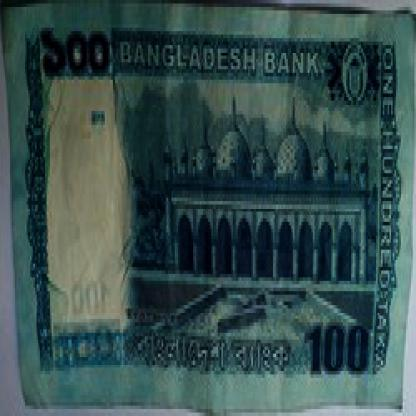one hundred taka: (37, 14, 113, 90), (308, 312, 368, 385)
